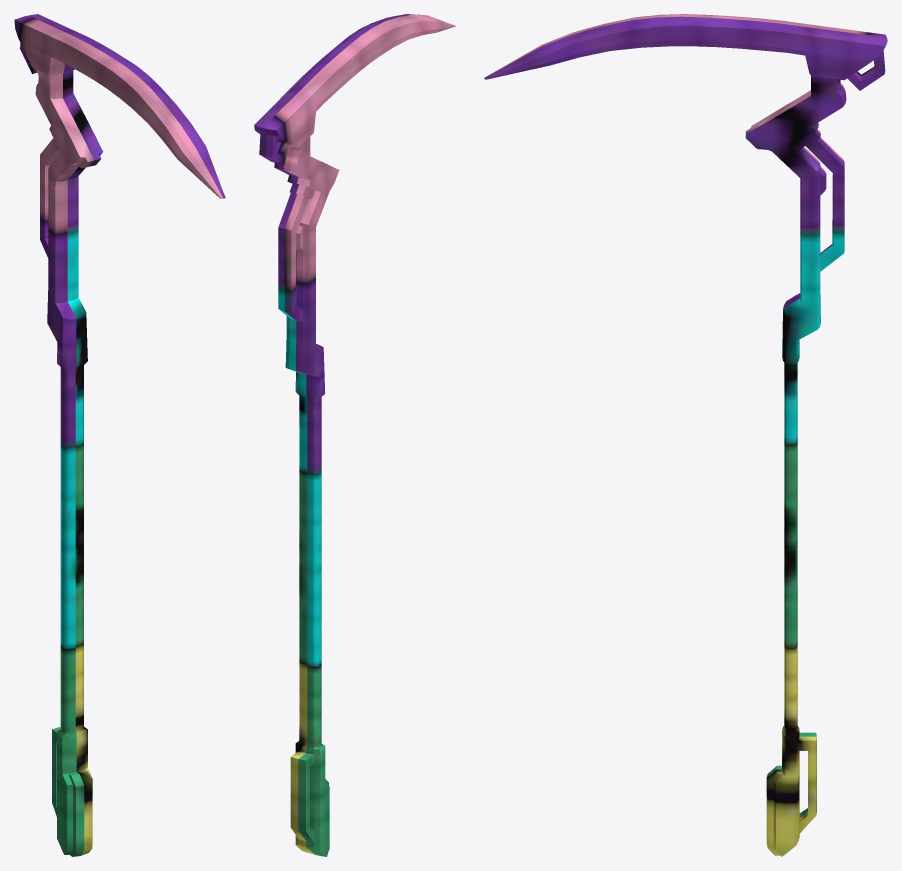
Rendered from staff.obj.
The picture shows the model from 3 angles, left to right: view 1: azimuth 30°, elevation 25°; view 2: azimuth 150°, elevation 25°; view 3: azimuth 270°, elevation 25°; orthographic projection. The views are drawn at different scales.
Visible parts, largest first — view 1: polySurface399 polySurface365; view 2: polySurface399 polySurface365; view 3: polySurface399 polySurface365.
Part boxes in pixels (bbox=[...]): polySurface399 polySurface365: bbox=[14, 14, 225, 856]; polySurface399 polySurface365: bbox=[254, 14, 455, 856]; polySurface399 polySurface365: bbox=[484, 14, 887, 856].
Bounding box in the file's own units: 0.1569 × 4.36 × 1.91.
Materials: 1 (1 with a texture image).
